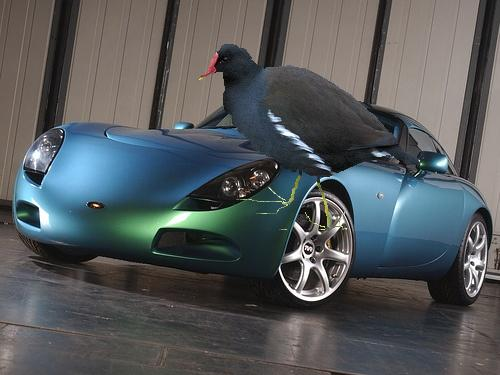tampered: (200, 45, 420, 230)
